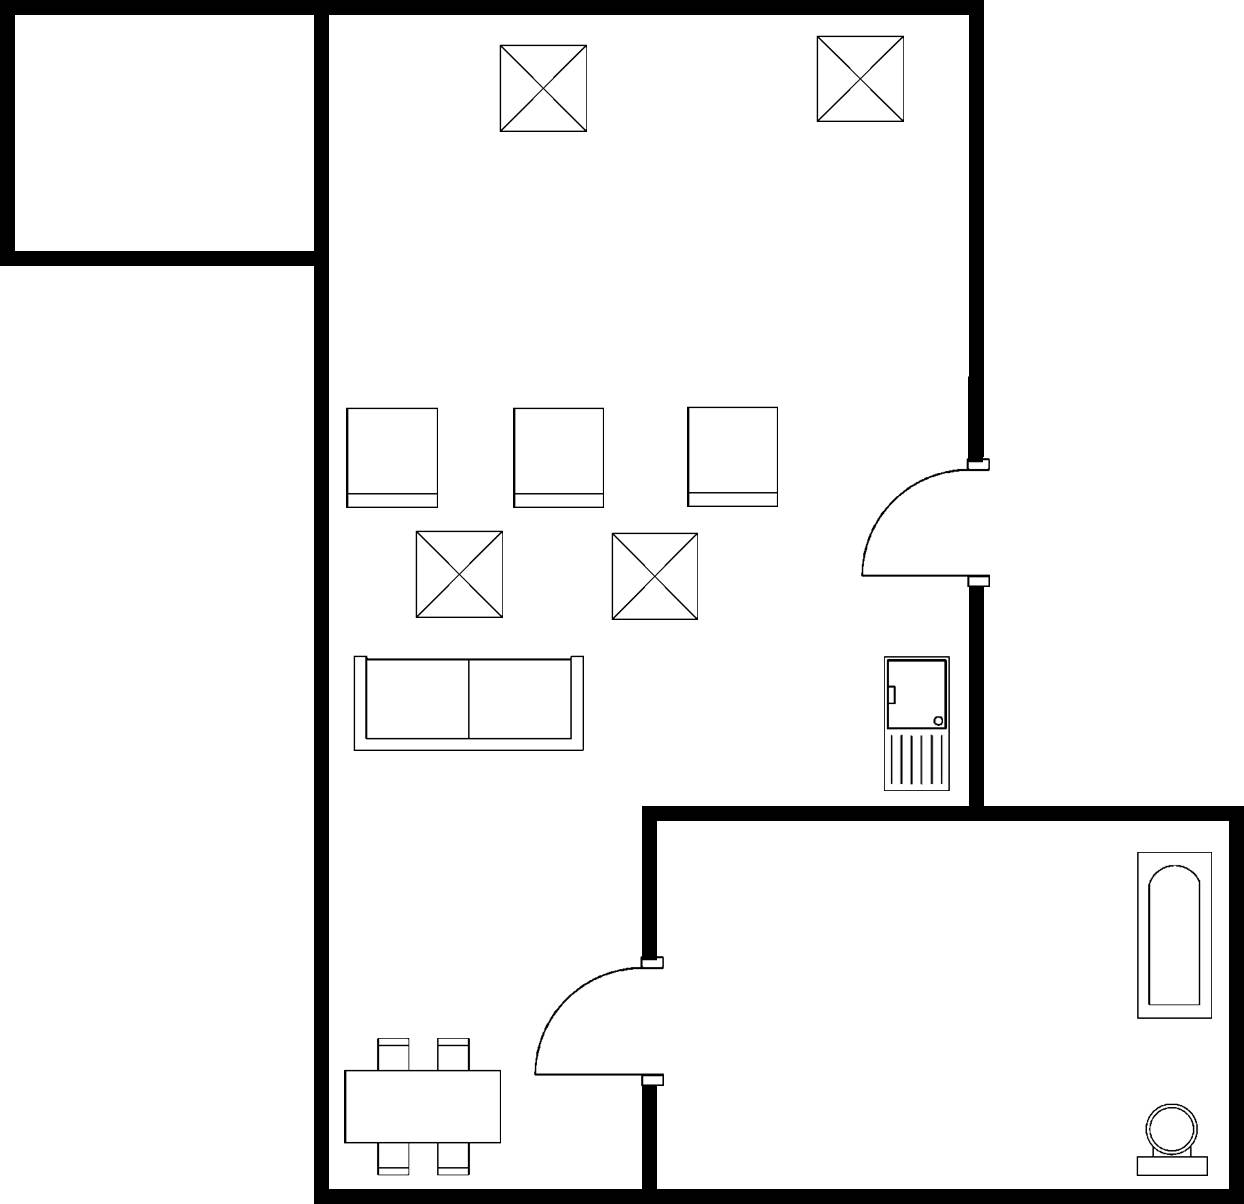coffee_table: (489, 32, 595, 143), (810, 28, 910, 132), (605, 526, 706, 629), (409, 521, 508, 625)
dining_table: (336, 1029, 515, 1181)
large_sink: (1131, 1096, 1216, 1185)
large_sofa: (344, 649, 592, 760)
sink: (876, 646, 957, 798)
small_sofa: (335, 400, 446, 515), (506, 399, 612, 515), (681, 399, 786, 515)
tub: (1128, 842, 1219, 1028)
